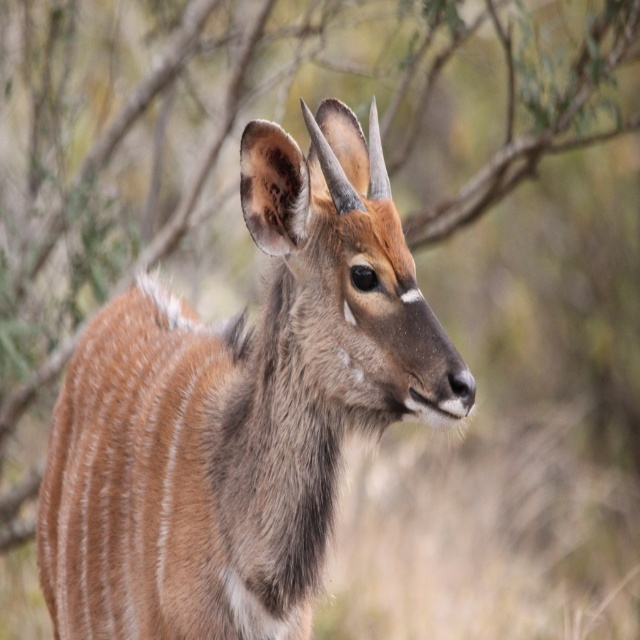Deer: (36, 97, 474, 639)
